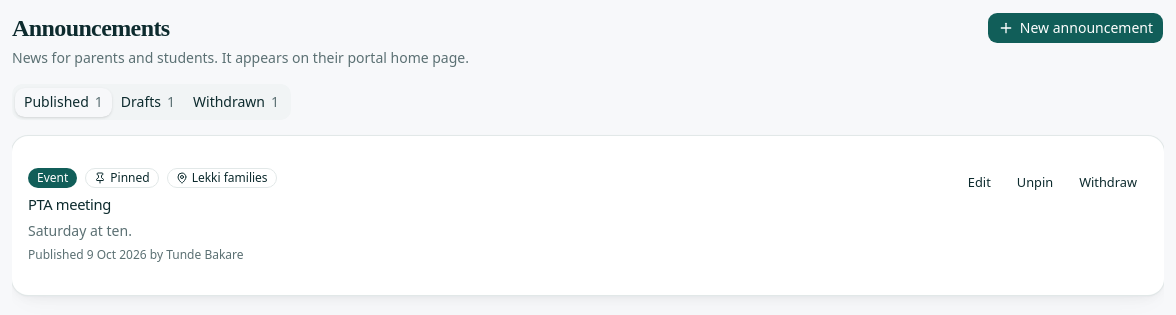
Test case: AnnouncementsPage list › shows the badges and the footer line for each status
Expected: the text "Pinned" is shown, [85,168,159,188]
Expected: the text "Lekki families" is shown, [167,168,277,188]
Click the tab "Drafts 1". click: point(148, 102)
box: [112,88,184,116]
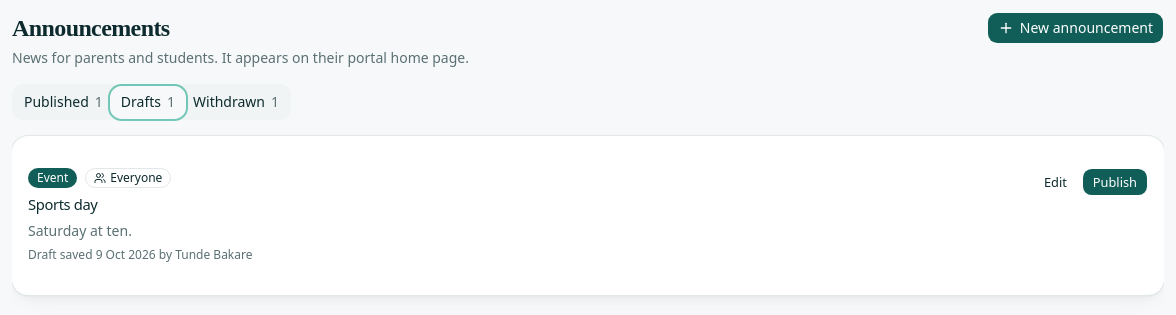
Expected: the text "Draft saved 9 Oct 2026 by Tunde Bakare" is shown, [28,246,252,263]
Expected: the text "Everyone" is shown, [85,168,171,188]
Click the tab "Withdrawn 1". click: point(236, 102)
box: [184,88,288,116]
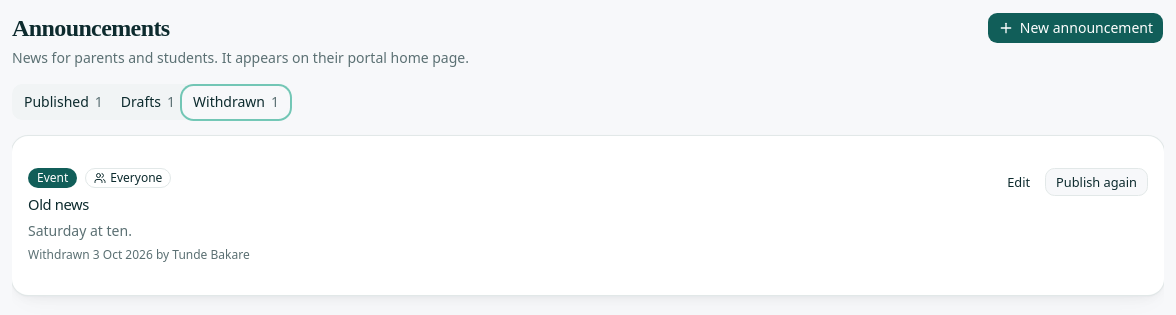
Expected: the text "Withdrawn 3 Oct 2026 by Tunde Bakare" is shown, [28,246,250,263]
